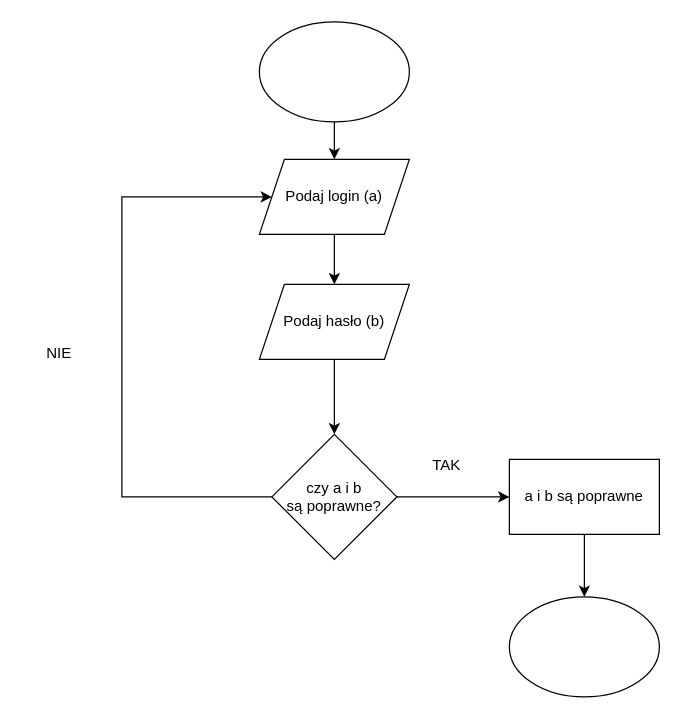
Image size: 681x719. Some labels were removed from this diagram. The shapes that lost their labels are listed below. From the top down, each one's centre as x and y in pixels, then its label:
[333,71]: Start
[583,646]: Koniec
